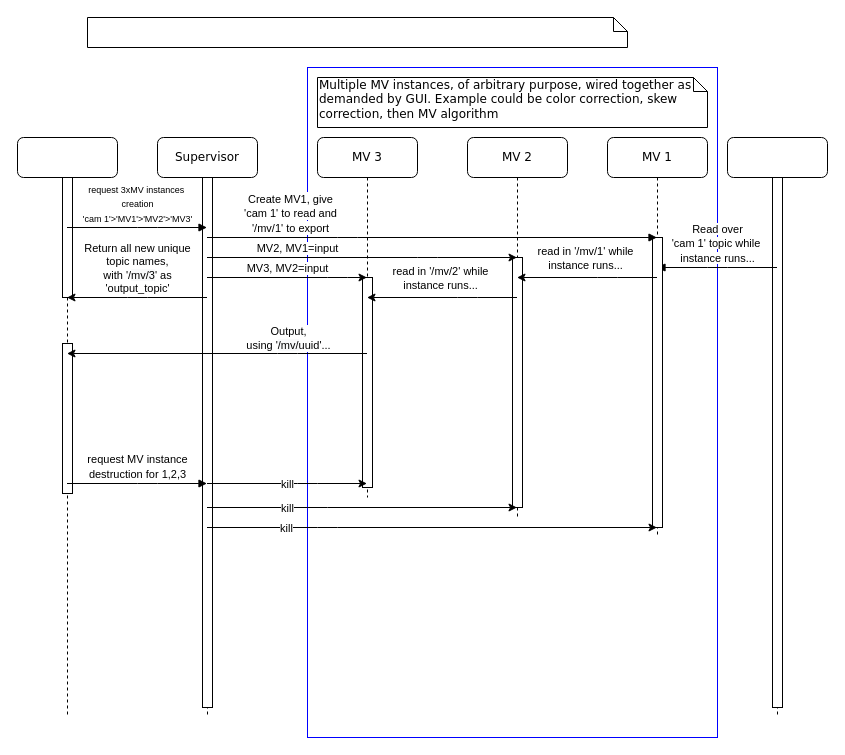
Some shapes in this 845 by 755 pixel diagram are drawn without their labels. The box of each missing label's shape, as (x1, y1, x2, y2) in pixels:
Camera Topic Creator: (726, 136, 828, 718)
GUI: (16, 136, 118, 718)
This is the plan for when multiple MV instances are 'wired' together.: (86, 16, 628, 48)
